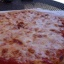pizza: (1, 12, 63, 64)
